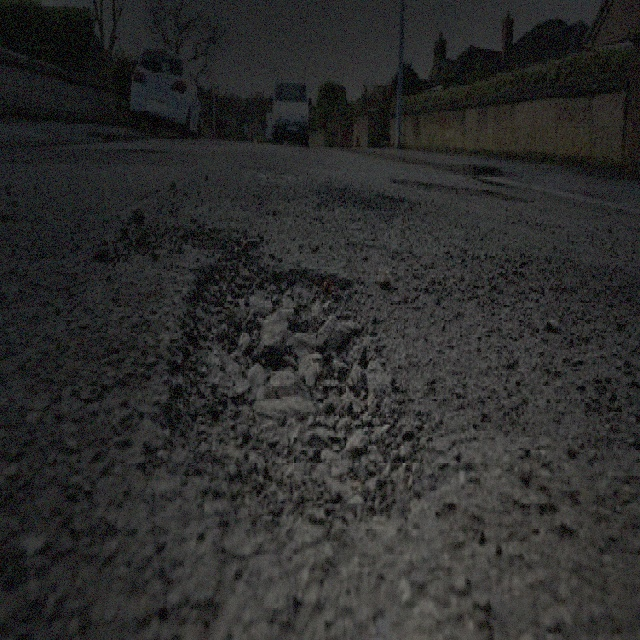pothole: (146, 237, 422, 518)
